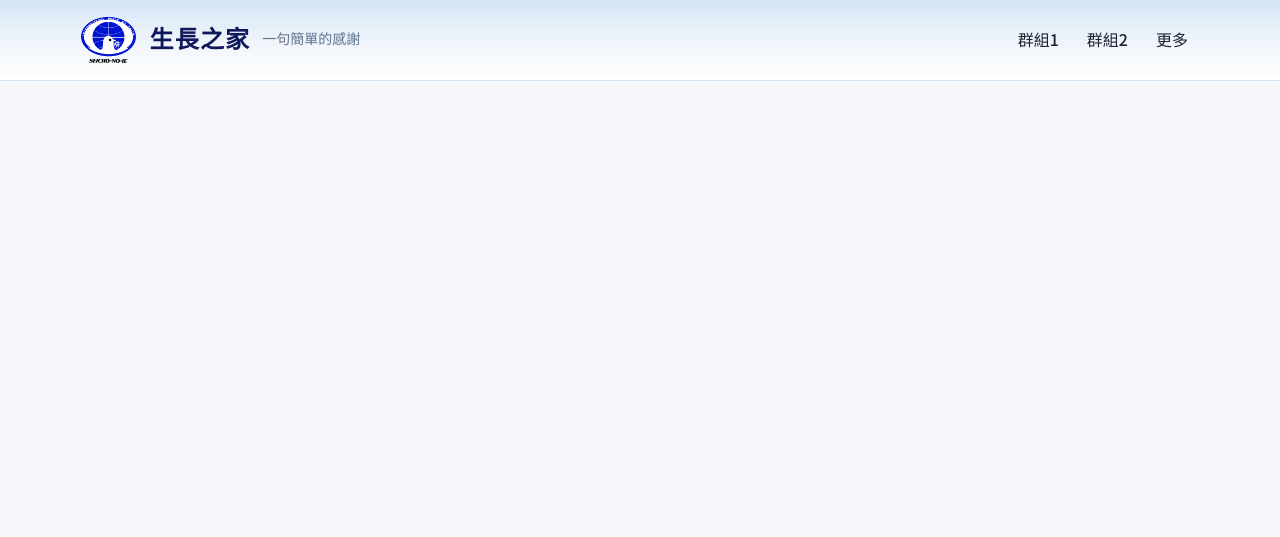
Test: 空間不足時把放不下的群組收進「更多」，點開仍能到達分頁
Expected: the button "群組2" is shown, [1075, 19, 1140, 61]
Expected: the button "群組3" is not shown
Click the button "更多": (1172, 40) [1144, 19, 1200, 61]
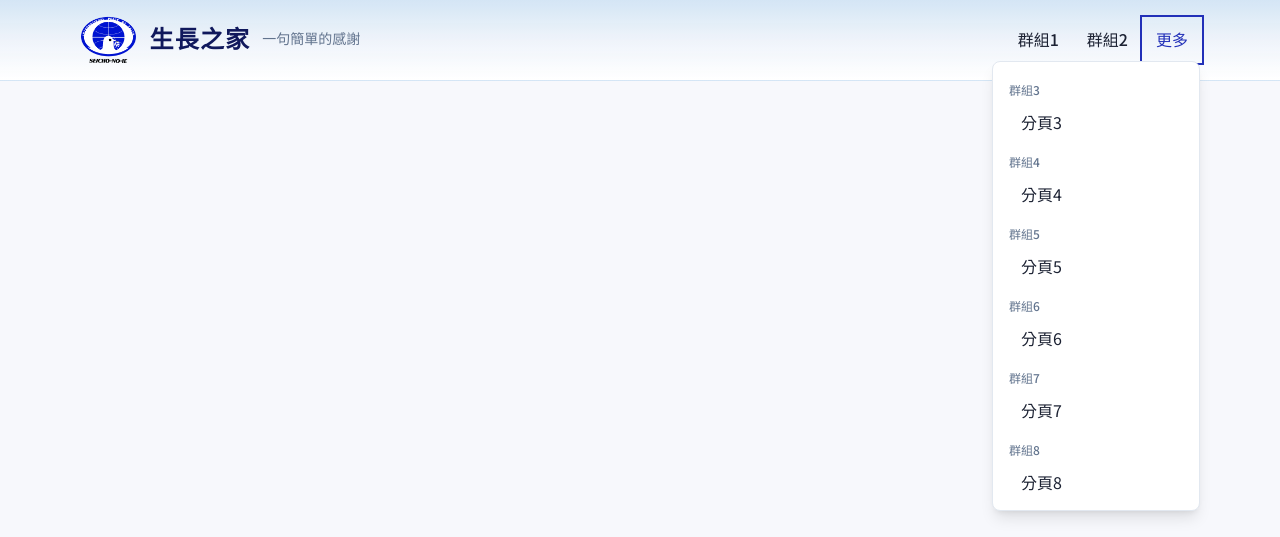
Expected: the button "更多" is expanded, [1144, 19, 1200, 61]
Expected: the text "群組8" is shown, [1009, 441, 1040, 458]
